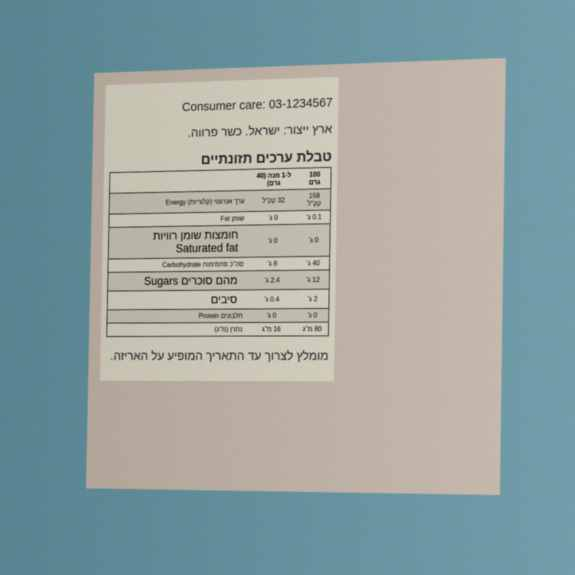carbs: (306, 258, 321, 268)
energy: (305, 190, 323, 209)
fat: (305, 212, 322, 222)
protein: (307, 311, 318, 320)
